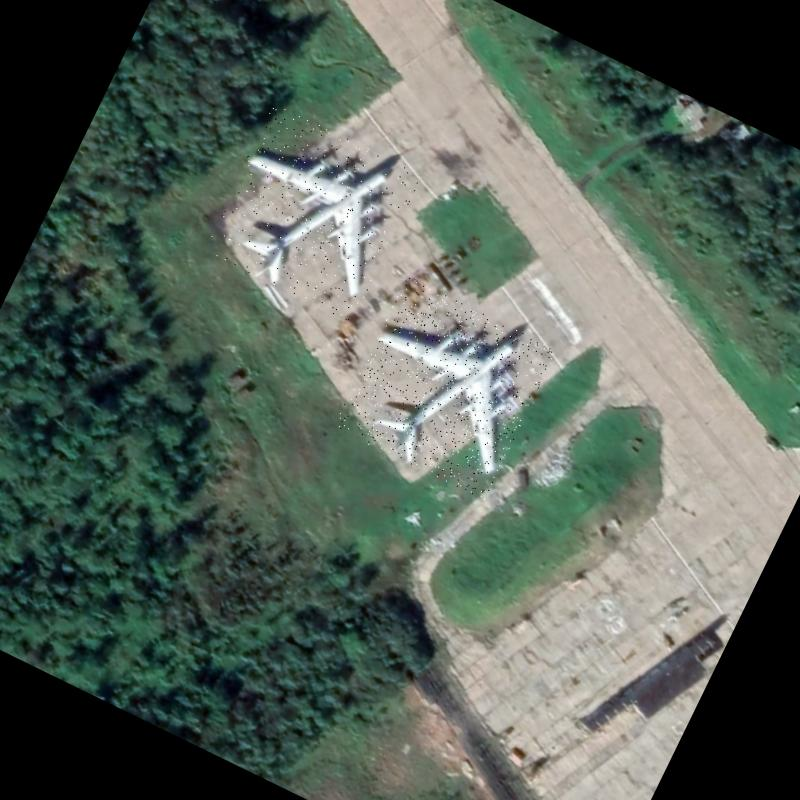A17: (332, 276, 557, 501), (201, 102, 423, 323)
